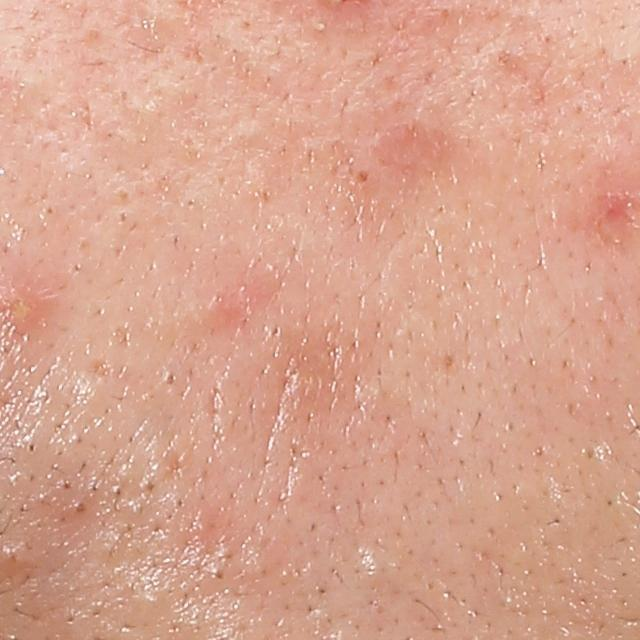comedo: (351, 166, 374, 190), (71, 500, 87, 517)
